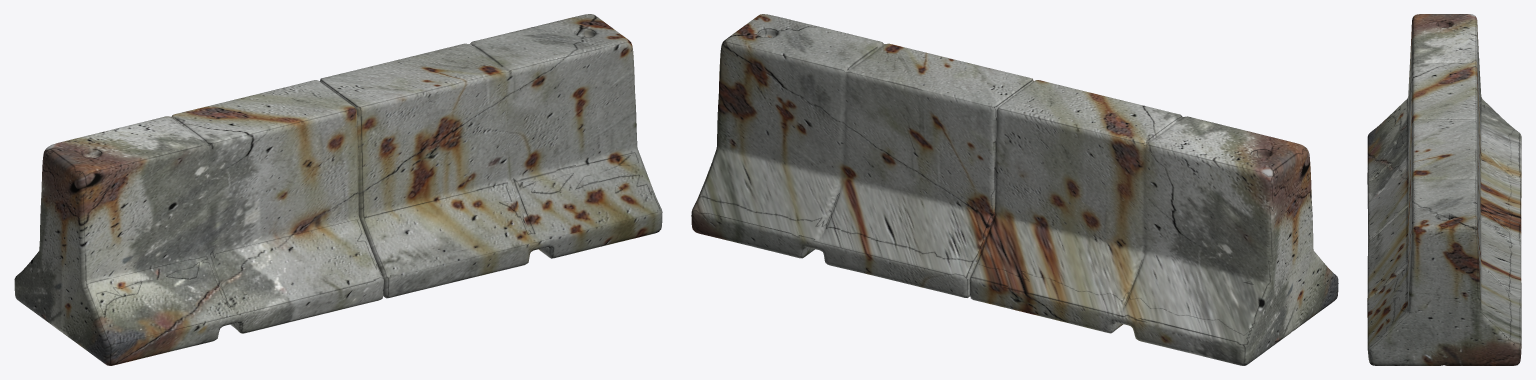
3 renders of one model, left to right at view 1: azimuth 30°, elevation 25°; view 2: azimuth 150°, elevation 25°; view 3: azimuth 270°, elevation 25°, orthographic. The views are drawn at different scales.
Visible parts, largest first — view 1: source; view 2: source; view 3: source.
Boxes of the visible parts, x1=… form: source: x1=14, y1=14, x2=662, y2=365; source: x1=691, y1=14, x2=1338, y2=365; source: x1=1367, y1=14, x2=1521, y2=365.
Bounding box in the file's own units: 1.91 × 0.5701 × 0.5722.
1 material, 1 textured.
